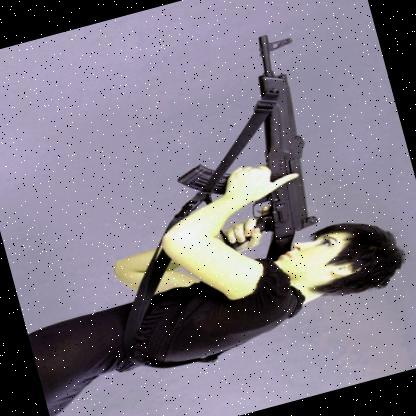rifle: (142, 23, 358, 282)
